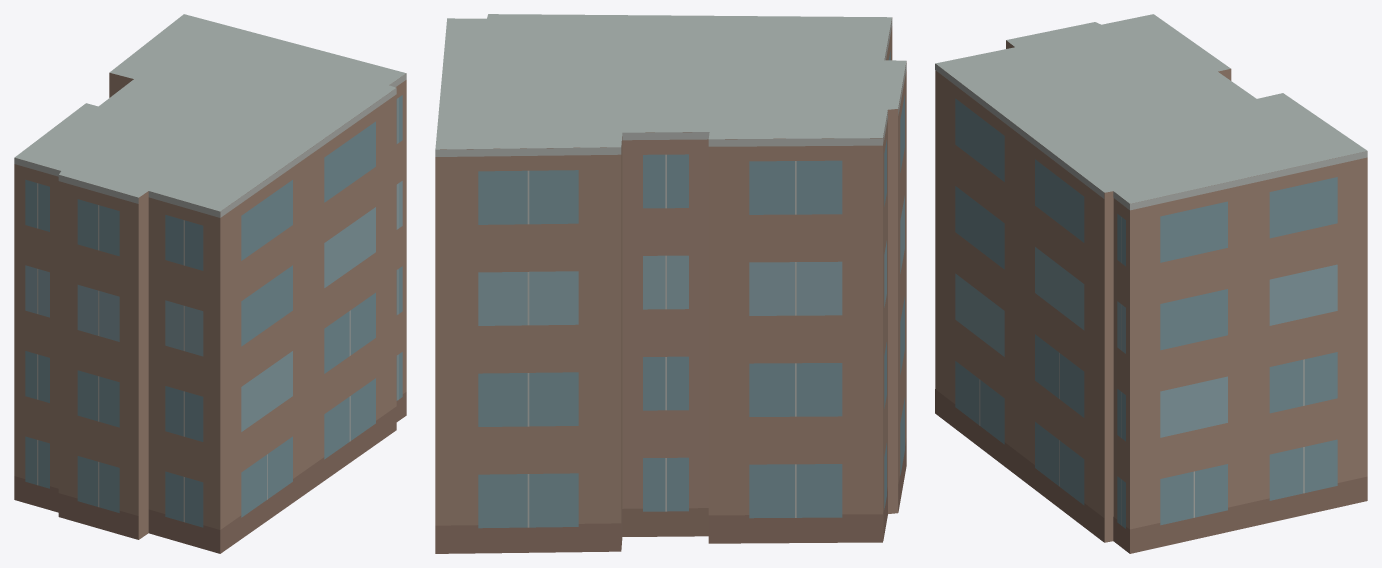
The model's file is survey-upis-32667586.glb.
3 renders of one model, left to right at view 1: azimuth 30°, elevation 25°; view 2: azimuth 150°, elevation 25°; view 3: azimuth 270°, elevation 25°, orthographic. The views are drawn at different scales.
Parts seen in each view (by area): view 1: survey-upis-32667586.tmp; view 2: survey-upis-32667586.tmp; view 3: survey-upis-32667586.tmp.
Boxes of the visible parts, x1=… form: survey-upis-32667586.tmp: x1=14, y1=14, x2=406, y2=553; survey-upis-32667586.tmp: x1=435, y1=14, x2=906, y2=553; survey-upis-32667586.tmp: x1=935, y1=14, x2=1367, y2=553.
Bounding box in the file's own units: 15.13 × 13 × 14.57.
